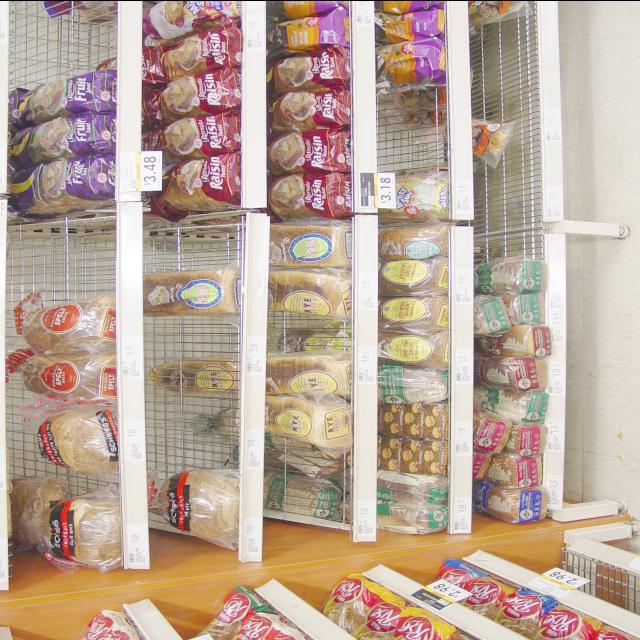empty_space: (12, 222, 114, 288), (150, 396, 234, 464), (477, 167, 543, 253), (266, 449, 346, 519), (12, 22, 120, 72), (477, 23, 534, 112), (379, 95, 443, 169), (151, 314, 237, 354), (271, 320, 353, 360), (150, 230, 241, 262), (510, 115, 538, 164)
